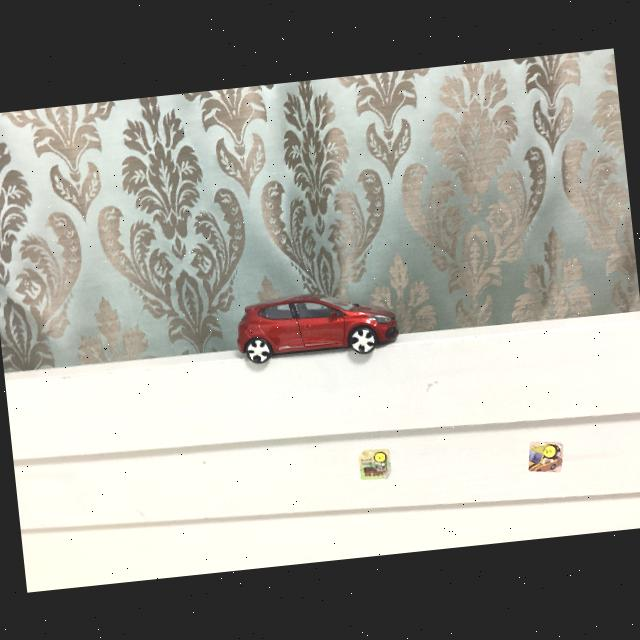Yanlis_Jant: (350, 327, 376, 354), (244, 338, 272, 363)
